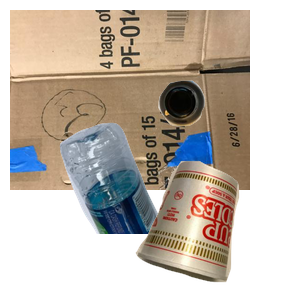cardboard: (10, 10, 250, 190)
glass: (156, 78, 300, 197)
plastic: (57, 120, 284, 300)
trash: (133, 158, 300, 300)
